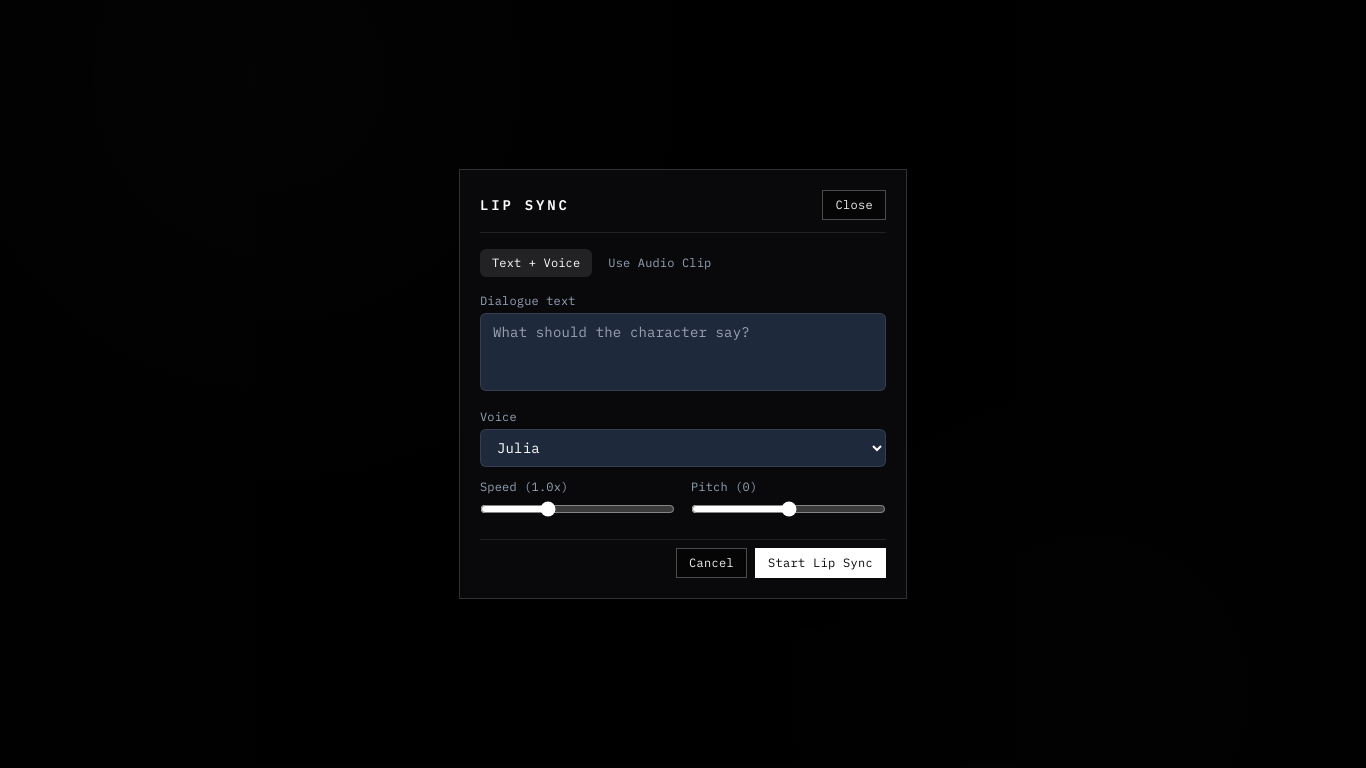
Test case: LipSyncModal › pre-selects audio dropdown when an audio item shares scene_id with the video
Click the button "Use Audio Clip". click: (660,263)
box: [596,249,723,277]
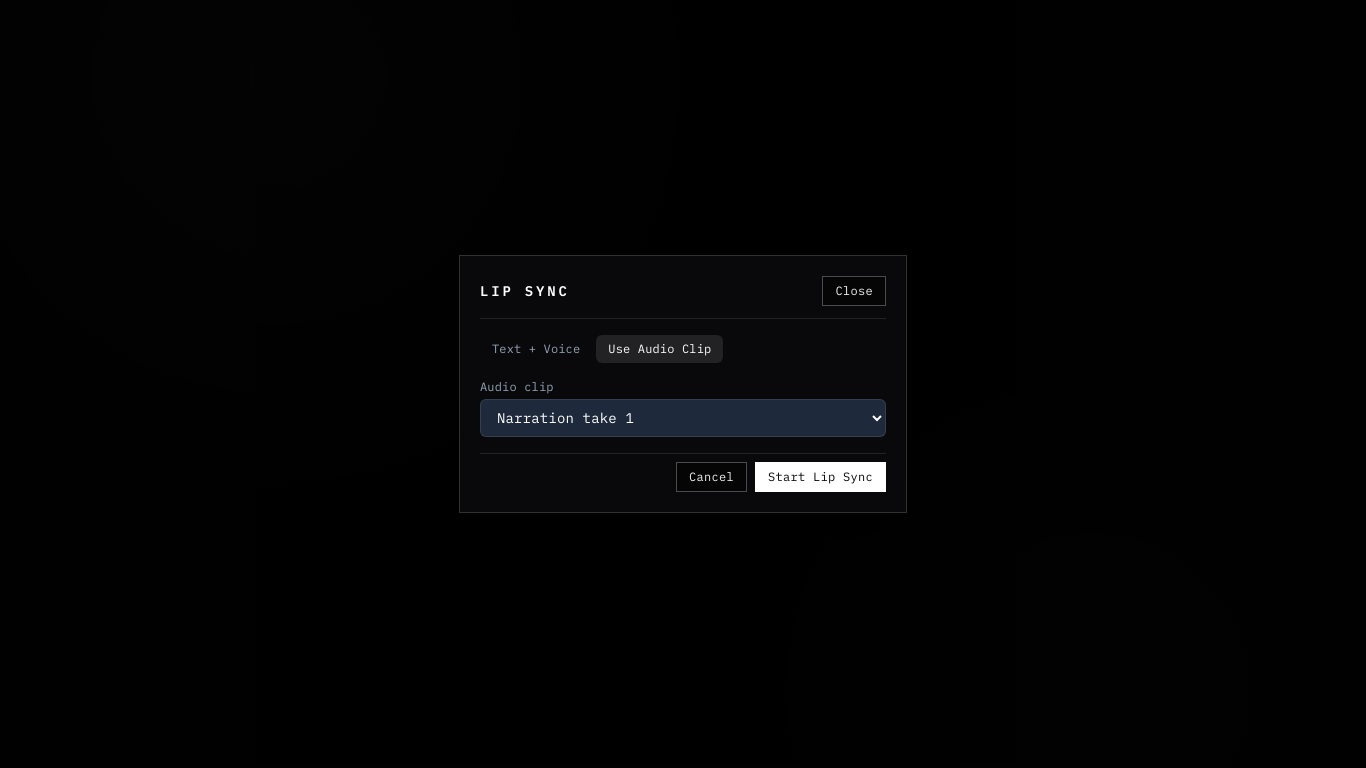
Check: the dropdown shows "Narration take 1", box [480,399,886,437]
